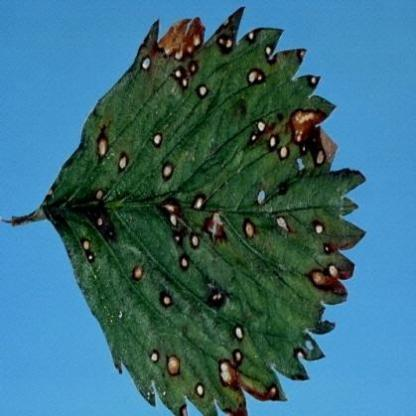Strawberry_Leaf_Spot: (42, 4, 369, 416)
